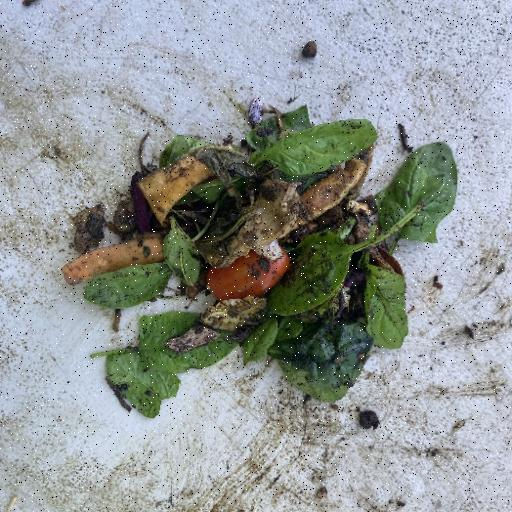Waste: (60, 94, 458, 418)
